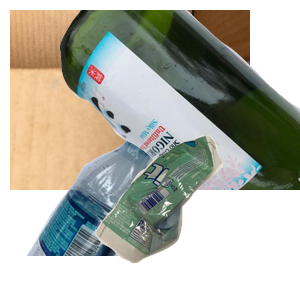cardboard: (10, 10, 250, 190)
glass: (60, 10, 300, 190)
plastic: (24, 120, 182, 300)
trash: (92, 133, 300, 300)
